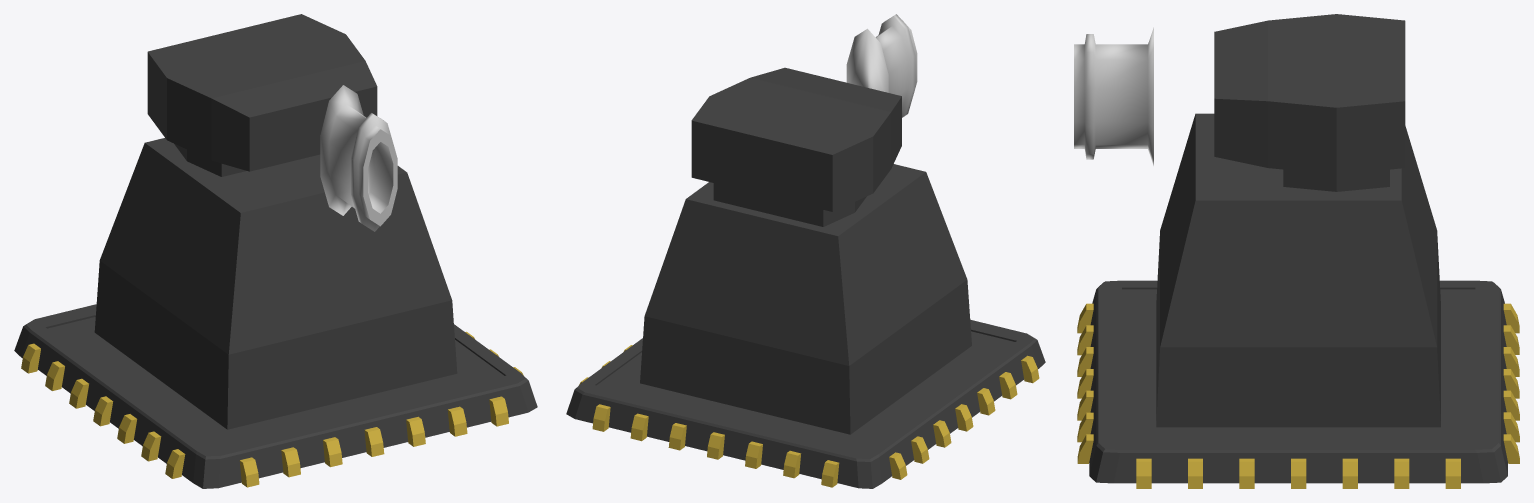
File: towerBase_FBX.fbx
3 renders of one model, left to right at view 1: azimuth 30°, elevation 25°; view 2: azimuth 150°, elevation 25°; view 3: azimuth 270°, elevation 25°, orthographic. The views are drawn at different scales.
Parts seen in each view (by area): view 1: Tower, Chip, Turret, Barrel; view 2: Tower, Turret, Chip, Barrel; view 3: Tower, Chip, Turret, Barrel, Cube_008, Cube_012, Cube_007, Cube_010, Cube_011, Cube_013.
Boxes of the visible parts, box(x1,y1,x2,y2) form: Tower: box(94, 138, 457, 429); Chip: box(14, 304, 537, 488); Turret: box(147, 14, 377, 176); Barrel: box(320, 85, 397, 231); Tower: box(640, 164, 971, 434); Turret: box(691, 67, 901, 226); Chip: box(566, 319, 1045, 488); Barrel: box(846, 14, 917, 117); Tower: box(1156, 113, 1440, 427); Chip: box(1089, 280, 1507, 483); Turret: box(1214, 14, 1405, 191); Barrel: box(1074, 27, 1153, 165); Cube_008: box(1136, 458, 1151, 488); Cube_012: box(1239, 458, 1254, 488); Cube_007: box(1445, 458, 1460, 488); Cube_010: box(1394, 458, 1409, 488); Cube_011: box(1342, 458, 1357, 488); Cube_013: box(1291, 458, 1306, 488).
Size of the model in its own units: 4.29 by 3.96 by 4.32.
